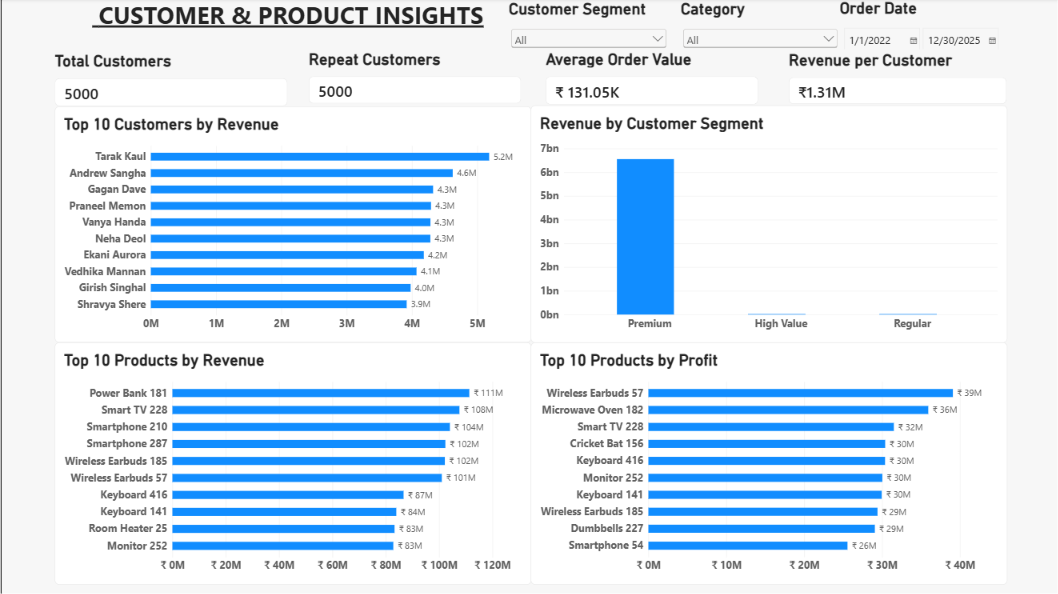

The page's visual inventory and layout, read from the dashboard file:
{"tool":"powerbi","page":{"name":"Customer & Product Insights","canvas":[1920,1080],"ordinal":2},"visuals":[{"type":"textbox","box":[80,0,880,96],"z":0},{"type":"clusteredBarChart","title":"Top 10 Customers by Revenue","fields":{"Category":["Customer.Customer_Name"],"Y":["DateTable.5.Date-Filtered Customer Revenue"]},"box":[97.8,195.6,862.2,427.5],"z":1000},{"type":"clusteredColumnChart","title":"Revenue by Customer Segment","fields":{"Category":["Customer.Customer_Segment"],"Y":["DateTable.3.Date-Filtered Revenue by Segment"]},"box":[960,193.8,862.2,429.3],"z":2000},{"type":"clusteredBarChart","title":"Top 10 Products by Revenue","fields":{"Category":["Product.Product_Name"],"Y":["DateTable.Test Product Revenue"]},"box":[97.8,623.1,862.2,438.3],"z":3000},{"type":"clusteredBarChart","title":"Top 10 Products by Profit","fields":{"Category":["Product.Product_Name"],"Y":["DateTable.2.Date-Filtered Product Profit"]},"box":[960,623,862,438],"z":4000},{"type":"cardVisual","title":"Total Customers","fields":{"Data":["CUSTOMER_PRODUCT_INSIGHTS_Measures.Total Unique Customers"]},"box":[97.7,95.9,421.7,99.5],"z":5000},{"type":"cardVisual","title":"Repeat Customers","fields":{"Data":["DateTable.4.Repeat Customers"]},"box":[557.2,91.8,384,98.1],"z":6000},{"type":"cardVisual","title":"Average Order Value","fields":{"Data":["DateTable.7.Date-Filtered AOV"]},"box":[987.1,91.8,384,100.2],"z":7000},{"type":"cardVisual","title":"Revenue per Customer","fields":{"Data":["CUSTOMER_PRODUCT_INSIGHTS_Measures.2.Revenue per Customer"]},"box":[1426,94.1,394.5,97.7],"z":8000},{"type":"slicer","title":"Customer Segment","fields":{"Values":["Customer.Customer_Segment"]},"box":[919.3,1.8,289.5,95.9],"z":9000},{"type":"slicer","title":"Category","fields":{"Values":["Category.Category_Name"]},"box":[1230.6,1.8,288,96],"z":10000},{"type":"slicer","title":"Order Date","fields":{"Values":["DateTable.Date"]},"box":[1518.3,0,302.2,92.3],"z":11000}]}

Visuals, with their boxes in screenshot pixels (x1, y1, x2, y2), scaled from the page's 1920x1080 canvas onto the 1058x594 screenshot:
textbox: l=44, t=0, r=529, b=53
"Top 10 Customers by Revenue" clusteredBarChart: l=54, t=108, r=529, b=343
"Revenue by Customer Segment" clusteredColumnChart: l=529, t=107, r=1004, b=343
"Top 10 Products by Revenue" clusteredBarChart: l=54, t=343, r=529, b=584
"Top 10 Products by Profit" clusteredBarChart: l=529, t=343, r=1004, b=584
"Total Customers" cardVisual: l=54, t=53, r=286, b=107
"Repeat Customers" cardVisual: l=307, t=50, r=519, b=104
"Average Order Value" cardVisual: l=544, t=50, r=756, b=106
"Revenue per Customer" cardVisual: l=786, t=52, r=1003, b=105
"Customer Segment" slicer: l=507, t=1, r=666, b=54
"Category" slicer: l=678, t=1, r=837, b=54
"Order Date" slicer: l=837, t=0, r=1003, b=51
